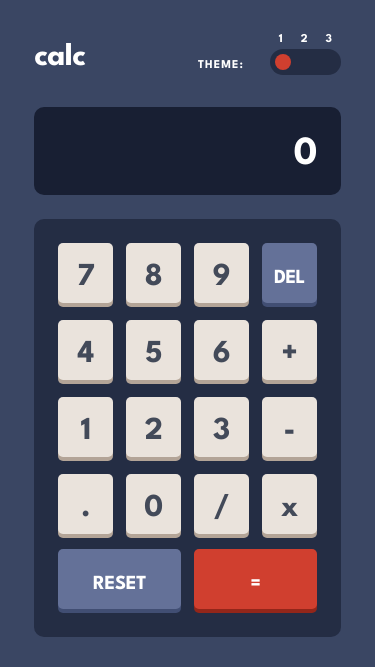
Test: Validate all possible math › Mobile layout › When clicked on 9 / 6 and =, then should display 1.5 as result
Click the button with test id "numpad-id-9".
click(222, 273)  # box [194,243,249,303]
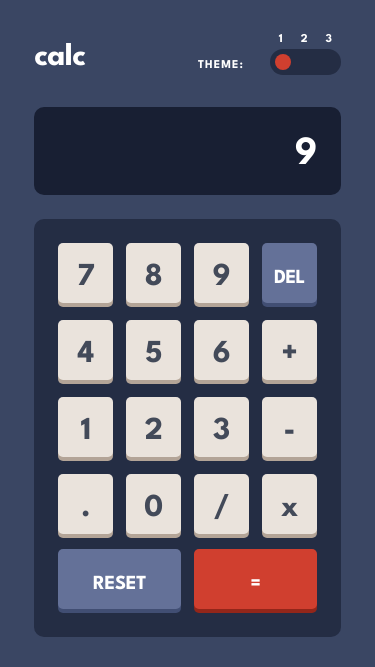
Click the button with test id "numpad-id-/".
click(222, 504)  # box [194,474,249,534]
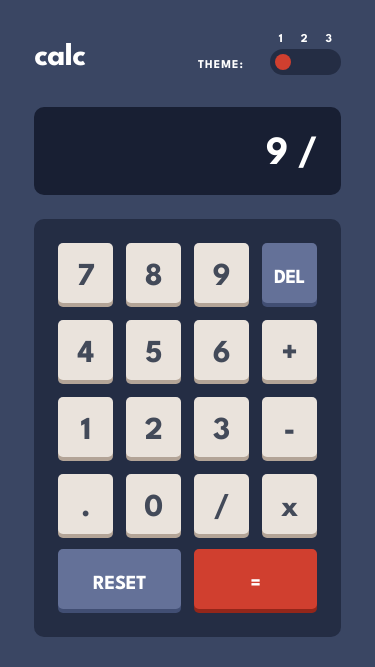
Click the button with test id "numpad-id-6".
click(222, 350)  # box [194,320,249,380]
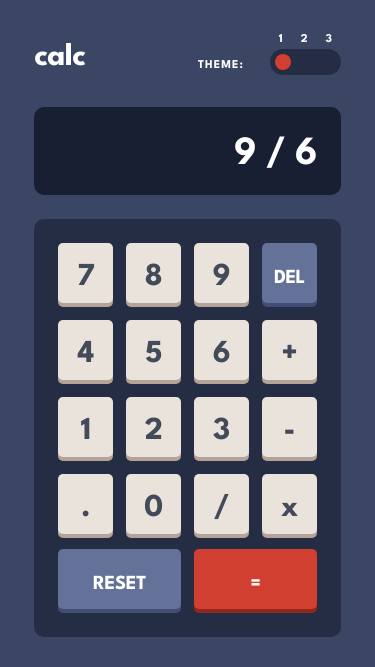
Click the button with test id "numpad-id-=".
click(256, 579)  # box [194,549,317,609]
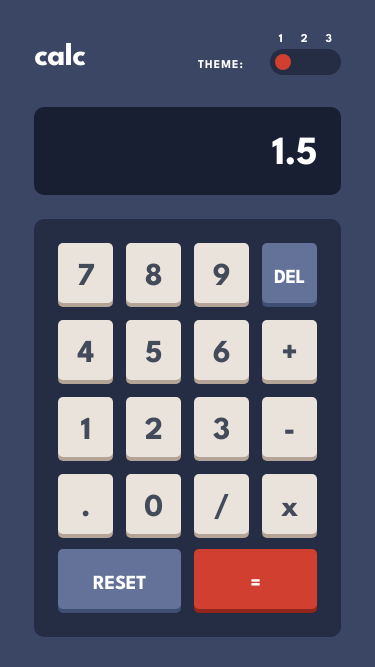
Expected: the heading with test id "result-display" reads "1.5", [34,107,341,195]
